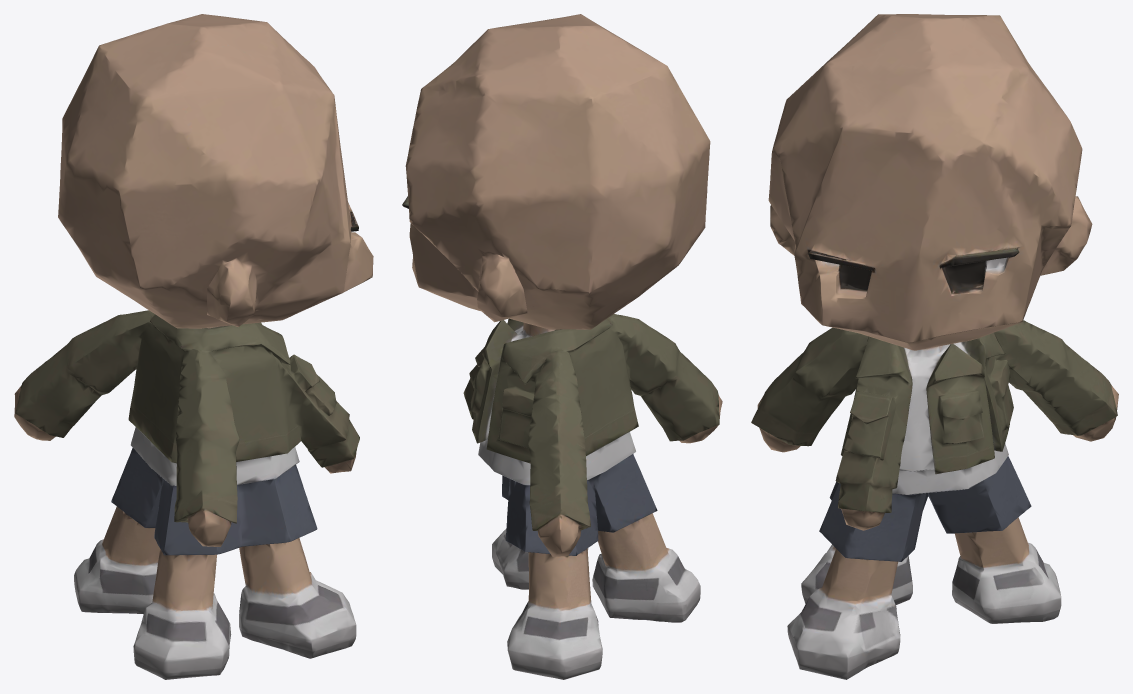
Rendered from dressed.glb.
3 views of the same model, side by side, from view 1: azimuth 30°, elevation 25°; view 2: azimuth 150°, elevation 25°; view 3: azimuth 270°, elevation 25° (orthographic). The views are drawn at different scales.
Parts seen in each view (by area): view 1: tripo_node_d0d32245-3492-4cc7-8a53-dd47b715299f; view 2: tripo_node_d0d32245-3492-4cc7-8a53-dd47b715299f; view 3: tripo_node_d0d32245-3492-4cc7-8a53-dd47b715299f.
Boxes of the visible parts, <box> form: tripo_node_d0d32245-3492-4cc7-8a53-dd47b715299f: <box>14,14,373,679</box>; tripo_node_d0d32245-3492-4cc7-8a53-dd47b715299f: <box>402,14,722,679</box>; tripo_node_d0d32245-3492-4cc7-8a53-dd47b715299f: <box>751,14,1118,679</box>.
Bounding box in the file's own units: 0.4567 × 1 × 0.5476.
1 material, 1 textured.
